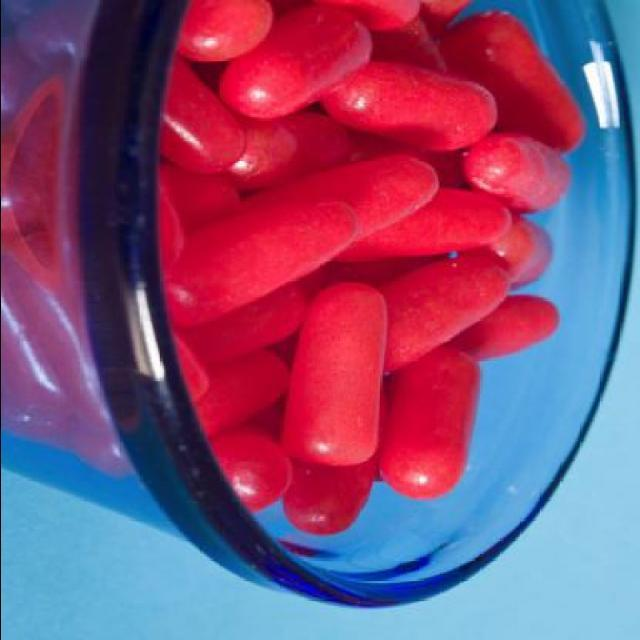Candy: (88, 26, 586, 623)
